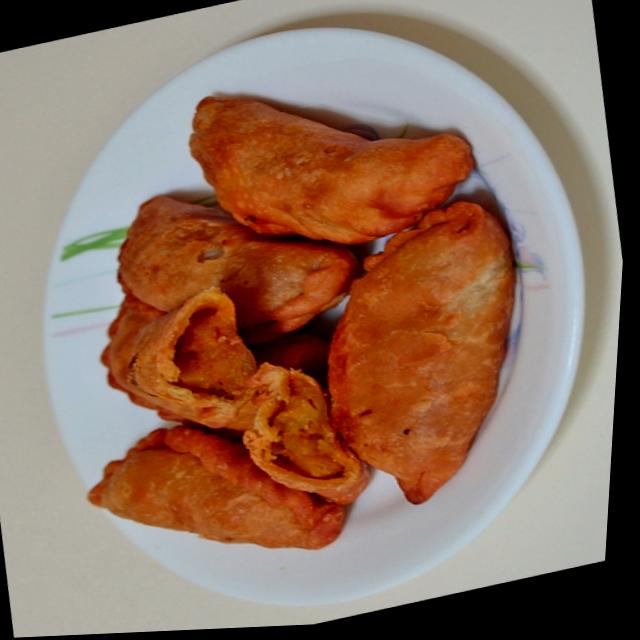炸货点心: (0, 0, 625, 617)
